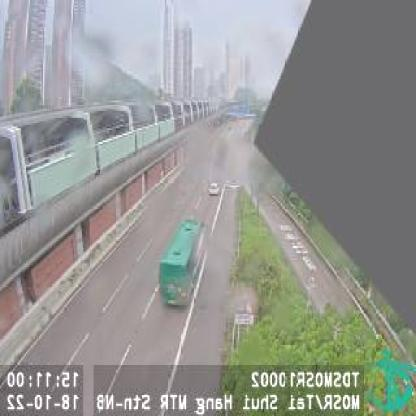Car: (208, 178, 221, 195)
Minibus: (156, 218, 205, 310)
